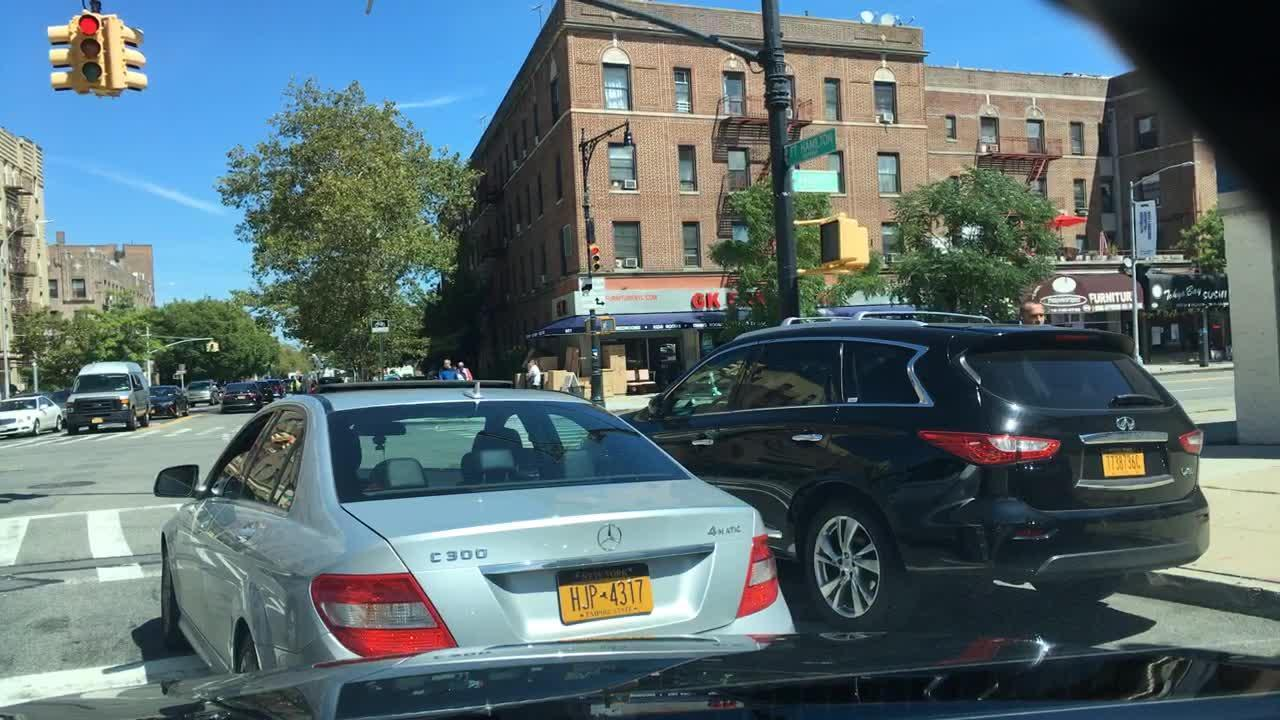Infiniti: (1113, 411, 1137, 435)
Mercedes: (590, 521, 626, 553)
